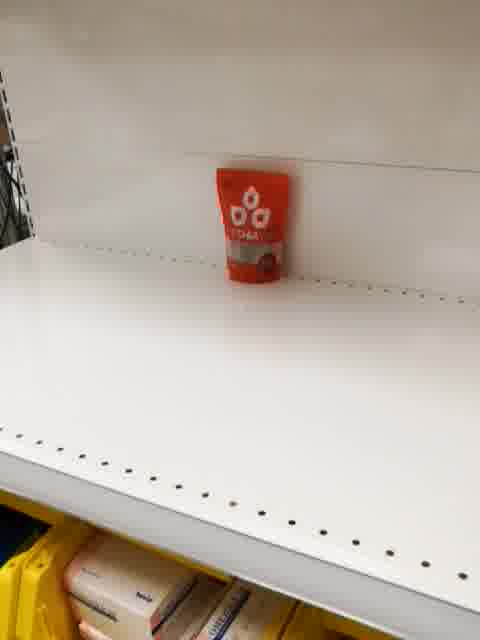whitechia: (214, 165, 296, 287)
